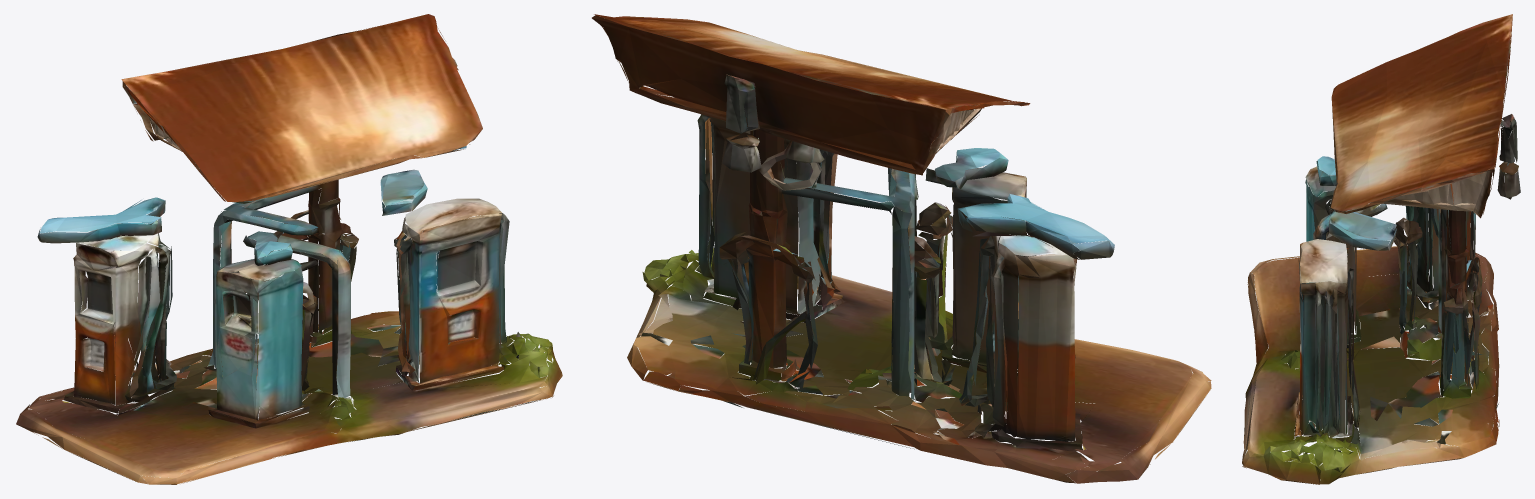
File: fuel-pump-island.glb
The picture shows the model from 3 angles, left to right: view 1: azimuth 30°, elevation 25°; view 2: azimuth 150°, elevation 25°; view 3: azimuth 270°, elevation 25°; orthographic projection. The views are drawn at different scales.
Parts seen in each view (by area): view 1: tmpdy4694pk.ply; view 2: tmpdy4694pk.ply; view 3: tmpdy4694pk.ply.
Part boxes in pixels (x1,y1,x2,y2): tmpdy4694pk.ply: (16,14,562,484); tmpdy4694pk.ply: (592,14,1211,483); tmpdy4694pk.ply: (1242,14,1520,484).
Bounding box in the file's own units: 5 × 3 × 2.5.
1 material, 1 textured.
